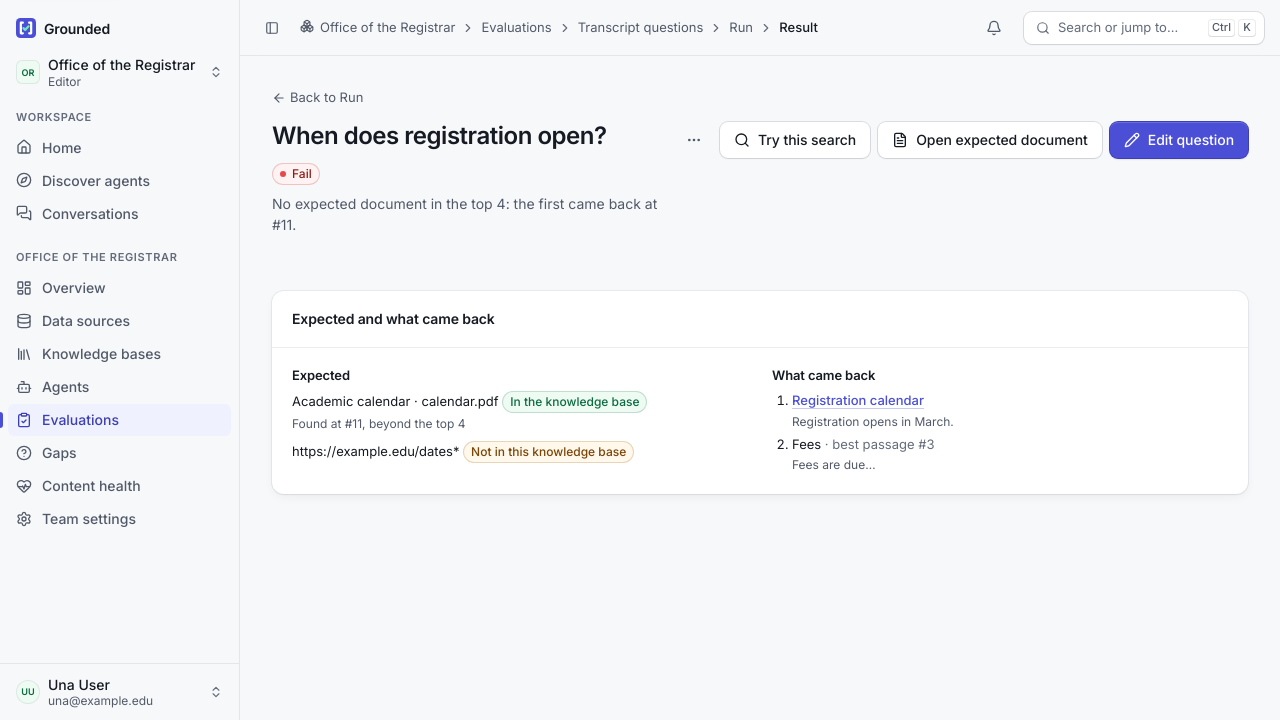
Test: a result's page › shows Expected beside What came back, with the rank beyond k, and says why once
Expected: the text "No expected document in the top" is shown once, [272,192,660,234]
Expected: the heading "Expected" is shown, [292,366,350,382]
Click the button "Edit question". click: point(1179, 140)
box: [1110,122,1248,158]
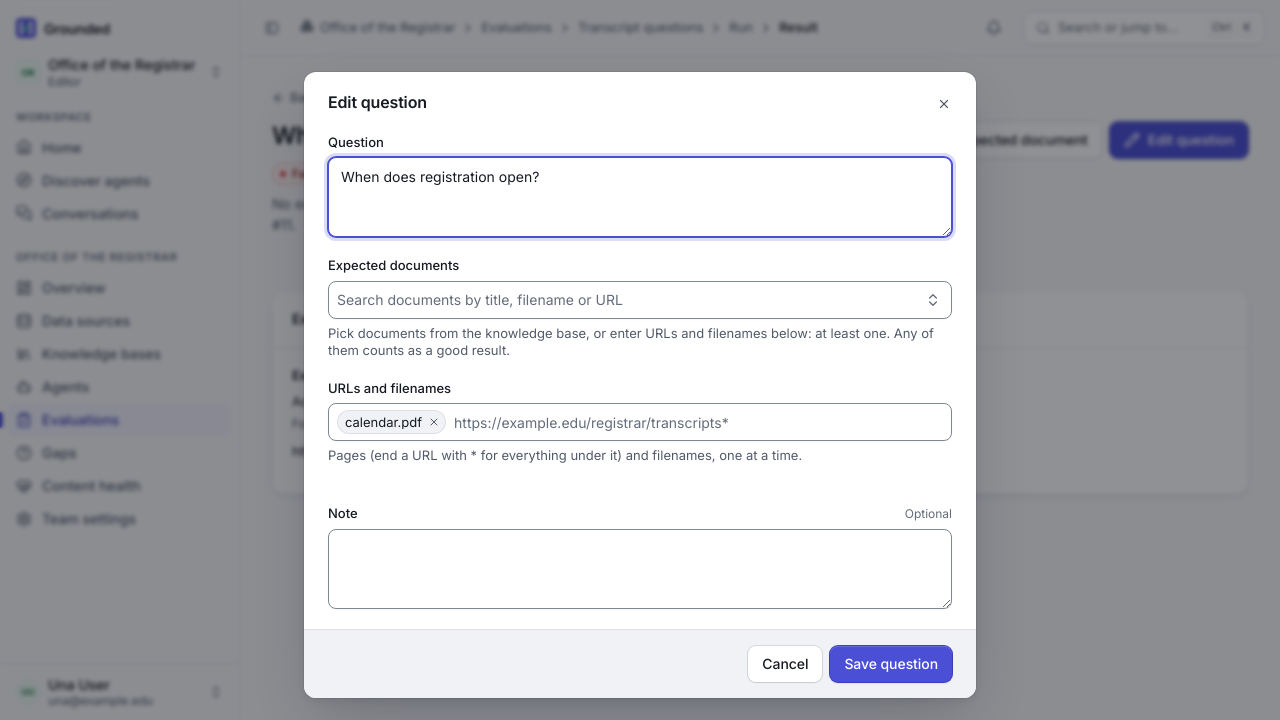
Result: the dialog "Edit question" is shown at [304,72,976,698]
